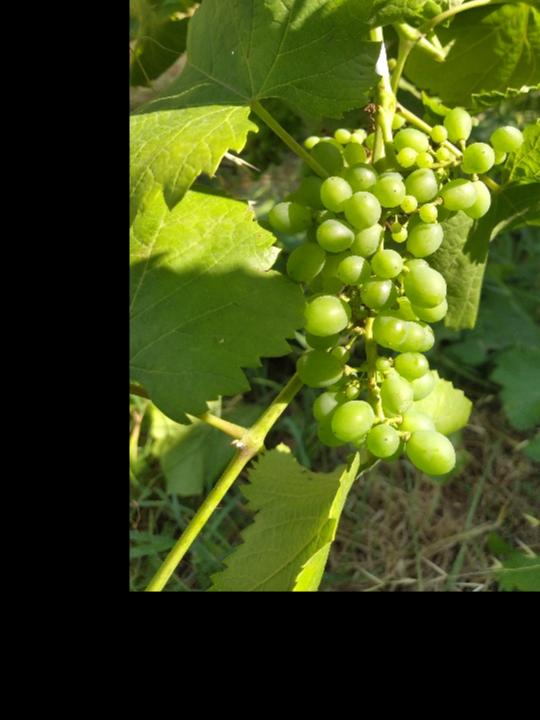grape: (261, 103, 528, 478)
